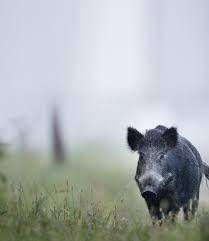Hog: (125, 123, 209, 226)
